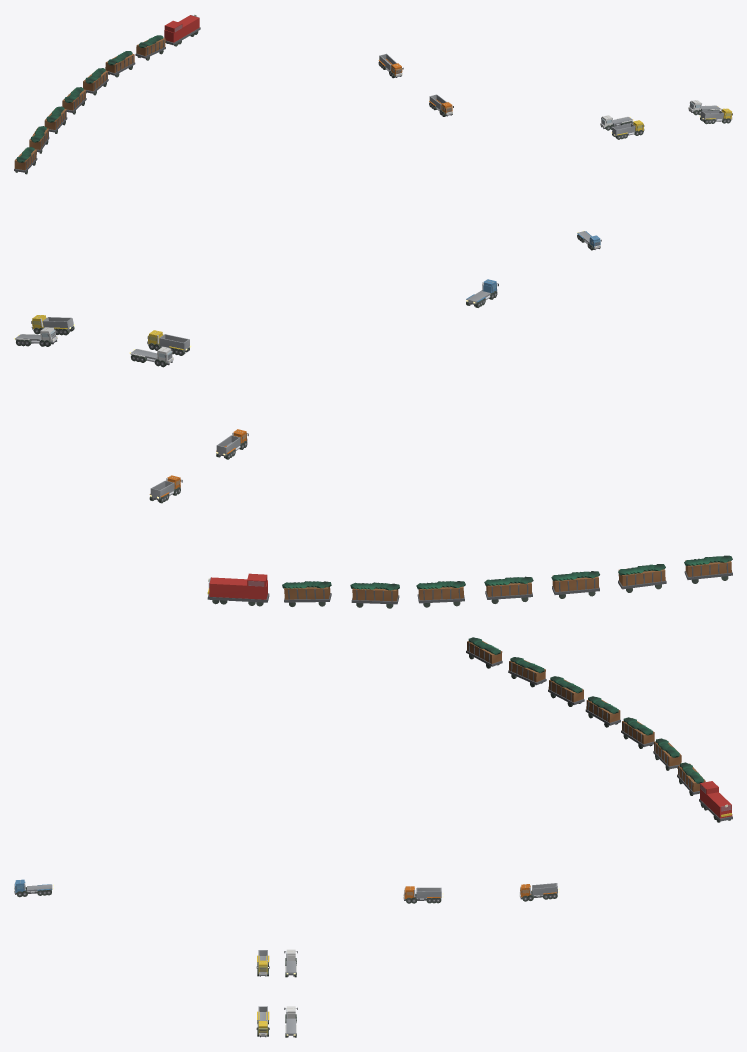
Rendered from Vehicles_P3.fbx.
The picture shows the model from 3 angles, top to bottom: view 1: azimuth 30°, elevation 25°; view 2: azimuth 150°, elevation 25°; view 3: azimuth 270°, elevation 25°; orthographic projection. The views are drawn at different scales.
Parts seen in each view (by area): view 1: train, wagon, wagon.001, wagon.002, truck_road_ore2, wagon.006, wagon.003, truck_road_ore3, wagon.004; view 2: train, wagon, wagon.001, wagon.002, wagon.005, wagon.004, wagon.006, wagon.003, truck_road_ore2, truck_road_ore3, truck_road_ore1, truck_road_cargo1 (+2 smaller); view 3: train, wagon.005, wagon.004, wagon.006, wagon.003, wagon.002.
Boxes of the visible parts, x1,y1,x2,y2 form: train: (164, 14, 200, 46); wagon: (135, 35, 165, 60); wagon.001: (105, 51, 135, 77); wagon.002: (83, 68, 108, 95); truck_road_ore2: (611, 120, 644, 139); wagon.006: (14, 147, 37, 174); wagon.003: (62, 87, 86, 114); truck_road_ore3: (699, 108, 732, 124); wagon.004: (44, 106, 67, 133); train: (207, 573, 269, 606); wagon: (282, 581, 331, 606); wagon.001: (350, 582, 399, 608); wagon.002: (416, 581, 465, 607); wagon.005: (618, 564, 666, 592); wagon.004: (551, 571, 599, 598); wagon.006: (684, 555, 732, 583); wagon.003: (484, 576, 533, 603); truck_road_ore2: (147, 330, 191, 355); truck_road_ore3: (31, 315, 74, 335); truck_road_ore1: (216, 429, 248, 459); truck_road_cargo1: (129, 346, 173, 367); train: (699, 781, 732, 822); wagon.005: (508, 657, 546, 687); wagon.004: (548, 676, 584, 706); wagon.006: (466, 637, 502, 668); wagon.003: (585, 696, 620, 727); wagon.002: (621, 717, 654, 748).
Bounding box in the file's own units: 21448 × 1518 × 18544.
